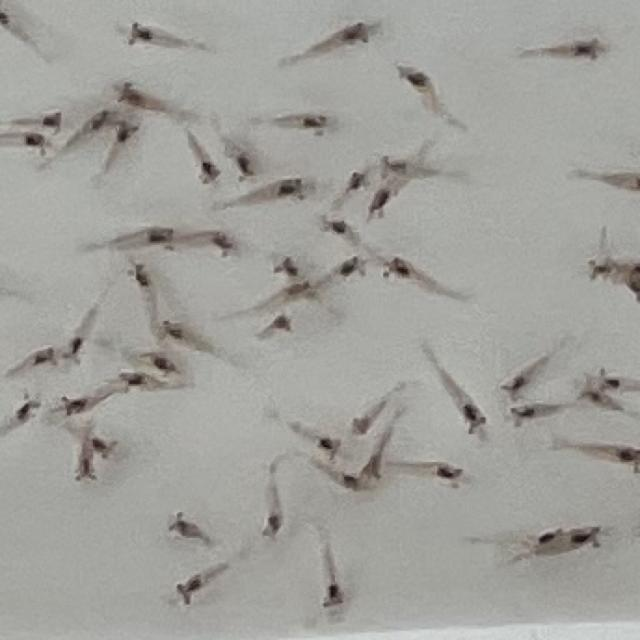shrimp-seed: (173, 572, 206, 608), (459, 402, 492, 438), (394, 64, 432, 92), (127, 18, 159, 51), (434, 462, 469, 492), (166, 510, 200, 540), (316, 430, 346, 464), (83, 105, 115, 136), (279, 279, 314, 307), (232, 150, 258, 186), (570, 39, 606, 65), (346, 18, 378, 47), (114, 80, 144, 110), (36, 109, 68, 137), (612, 446, 640, 476), (337, 254, 367, 282), (364, 190, 392, 220), (303, 112, 333, 140), (530, 524, 562, 550), (275, 176, 307, 202), (13, 394, 42, 422), (148, 225, 178, 252), (256, 514, 284, 542), (59, 391, 87, 419), (210, 230, 238, 258), (321, 582, 347, 612), (124, 258, 150, 288), (500, 371, 528, 398), (62, 336, 89, 364), (336, 470, 364, 496), (588, 256, 614, 284), (32, 344, 58, 372), (151, 353, 179, 379), (572, 527, 602, 551), (116, 367, 146, 391), (381, 258, 411, 282), (320, 215, 352, 237), (20, 134, 52, 156), (345, 169, 372, 195), (112, 119, 139, 145), (508, 403, 536, 428), (158, 317, 184, 343), (272, 253, 298, 279), (74, 456, 98, 484), (361, 454, 386, 480), (92, 438, 119, 462), (198, 159, 220, 187), (348, 416, 373, 440), (576, 384, 602, 406), (598, 371, 622, 394), (380, 158, 406, 178), (624, 284, 640, 308), (0, 10, 12, 30), (630, 259, 640, 282)
